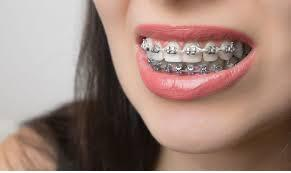Braces: (142, 40, 246, 75)
